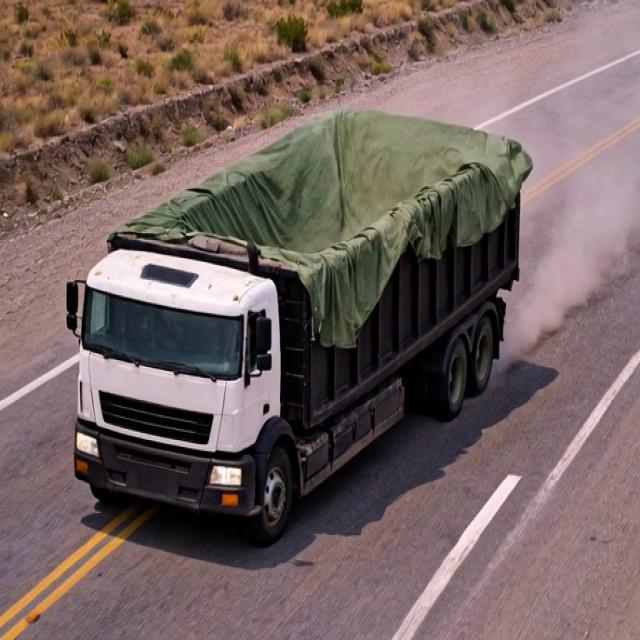Box: (118, 101, 548, 276)
Truck: (67, 80, 575, 536)
